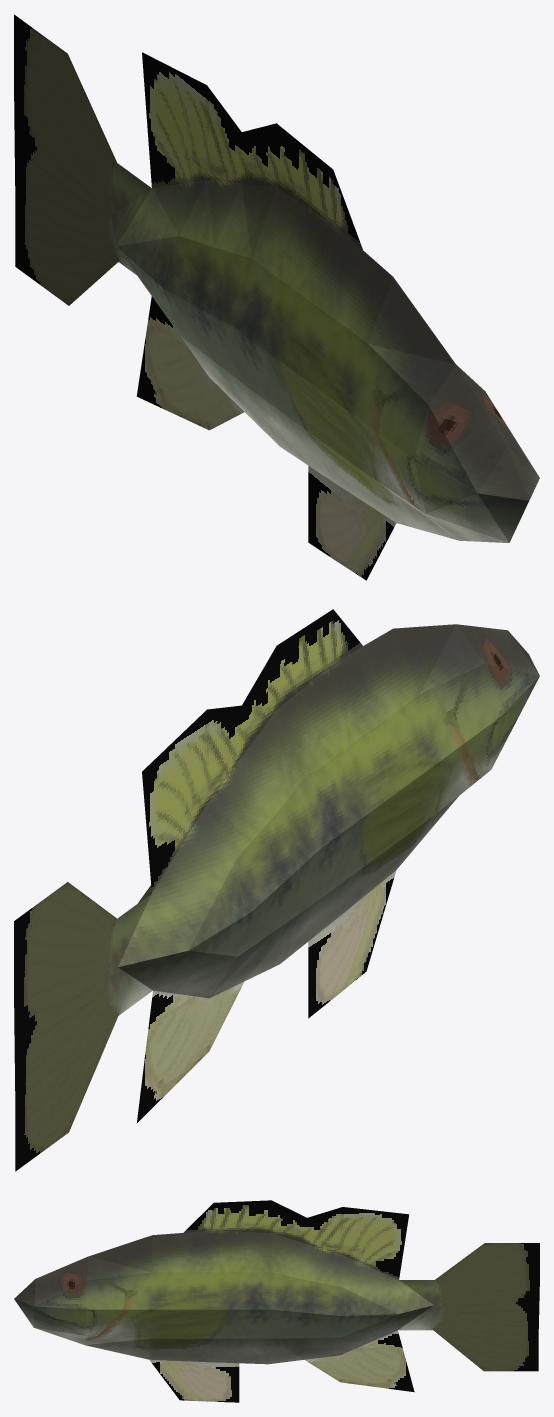
File: largemouth.glb
3 views of the same model, one above another, from view 1: azimuth 30°, elevation 25°; view 2: azimuth 150°, elevation 25°; view 3: azimuth 270°, elevation 25° (orthographic). The views are drawn at different scales.
Parts seen in each view (by area): view 1: largemouth; view 2: largemouth; view 3: largemouth.
Boxes of the visible parts, left/top/right/bottom form: largemouth: left=14, top=14, right=539, bottom=580; largemouth: left=14, top=609, right=539, bottom=1171; largemouth: left=14, top=1200, right=539, bottom=1402.
Bounding box in the file's own units: 0.4544 × 1.97 × 4.63.
Materials: 1 (1 with a texture image).
